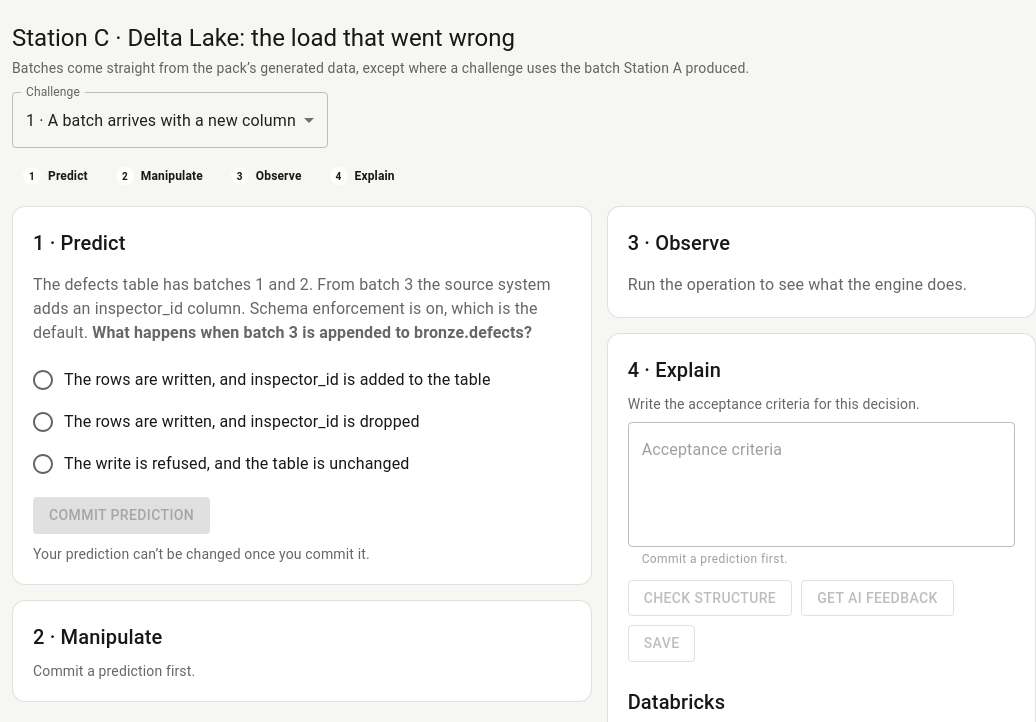
Test: StationC and what is already on record › shows why a prediction could not be saved, and what the server holds wins
Click the radio button labelled "The write is refused, and the table is unchanged" at (220, 464), box x1=31 y1=452 x2=410 y2=476
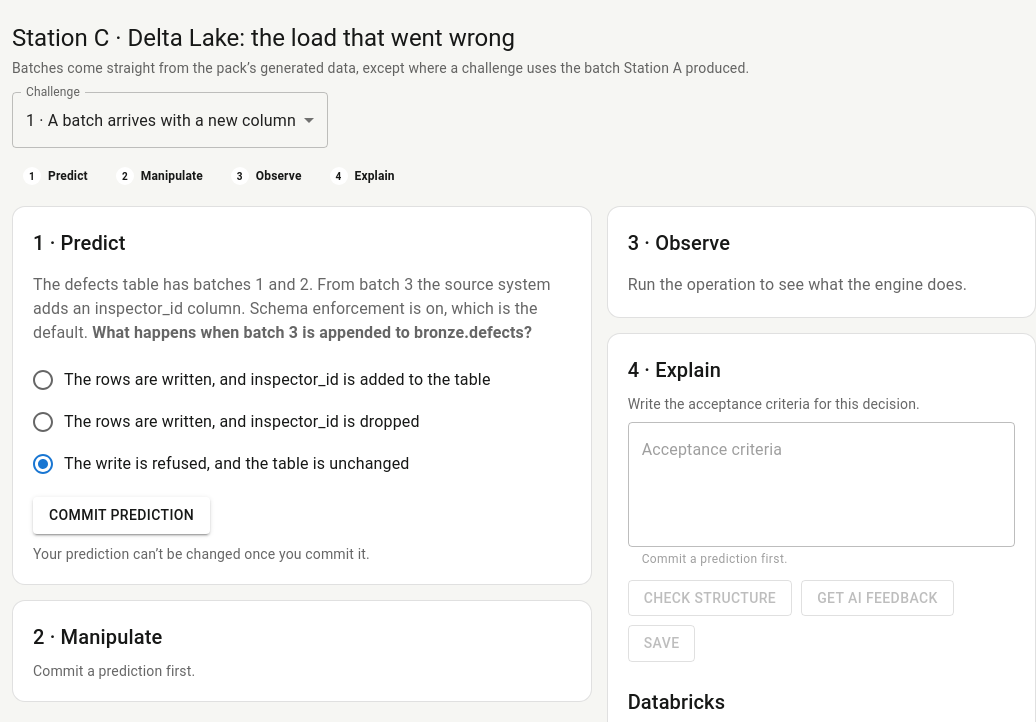
Click the button "Commit prediction" at (122, 515), box x1=33 y1=497 x2=210 y2=534
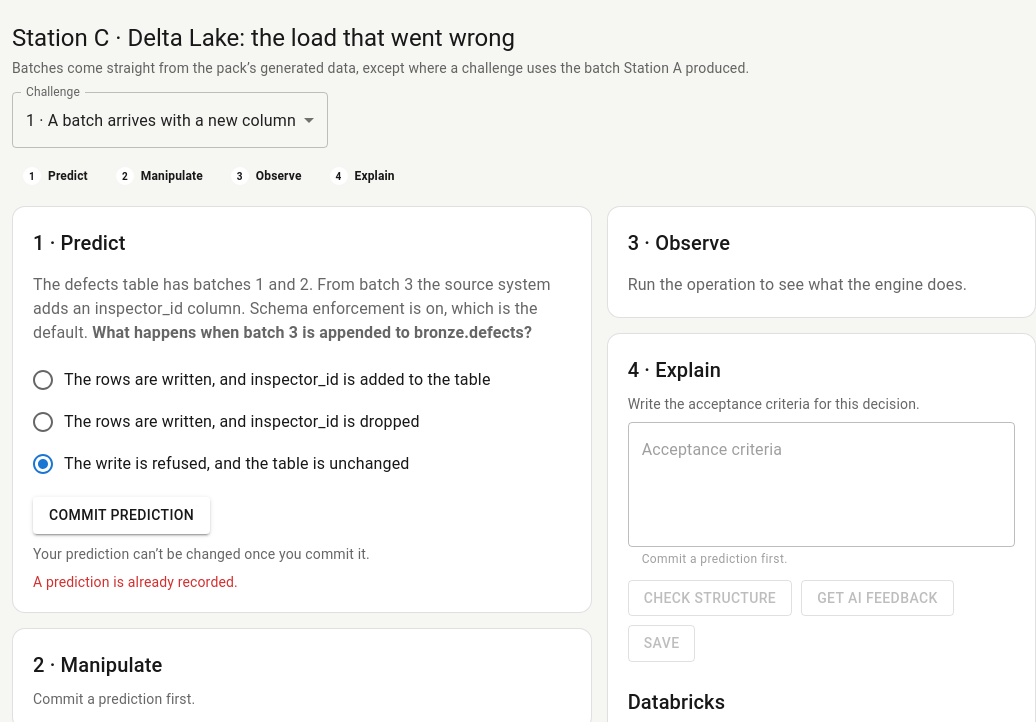
Expected: the message reads "A prediction is already recorded.", x1=33 y1=574 x2=238 y2=590
